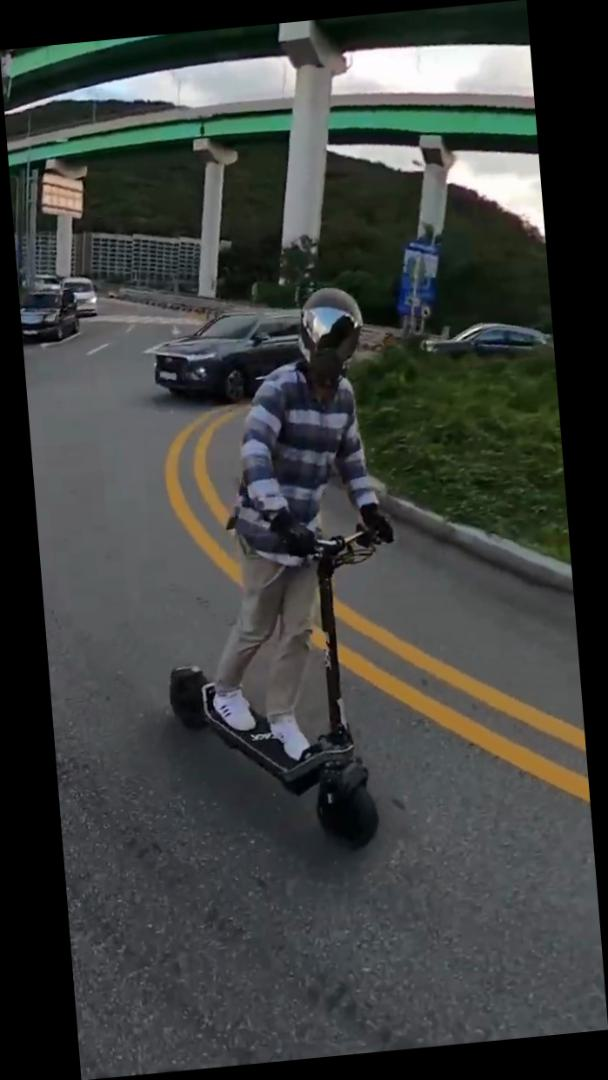helmet: (132, 274, 422, 867)
